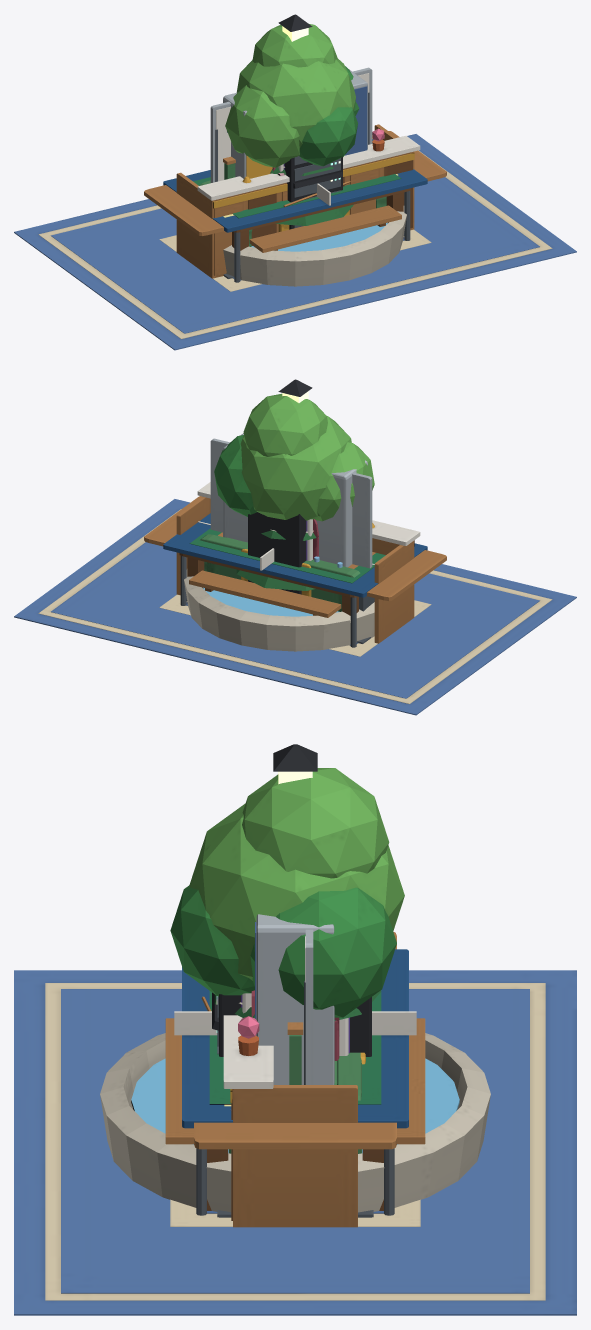
The model's file is mobilia.glb.
3 renders of one model, top to bottom at view 1: azimuth 30°, elevation 25°; view 2: azimuth 150°, elevation 25°; view 3: azimuth 270°, elevation 25°, orthographic. The views are drawn at different scales.
Visible parts, largest first — view 1: tapete_grande, arvore, balcao, fonte, mesa_pingpong, mesa_picnic, mesa_reuniao, sinuca, lousa, armario, rack_servidor, tapete (+2 smaller); view 2: tapete_grande, arvore, fonte, balcao, mesa_pingpong, armario, lousa, mesa_reuniao, mesa_picnic, rack_servidor, sinuca, sofa (+3 smaller); view 3: tapete_grande, arvore, fonte, balcao, mesa_pingpong, armario, mesa_reuniao, mesa_picnic, sinuca, tapete, rack_servidor, lousa (+3 smaller).
Boxes of the visible parts, <box> form: tapete_grande: <box>14,134,576,350</box>; arvore: <box>225,24,359,167</box>; balcao: <box>176,124,420,278</box>; fonte: <box>223,166,406,286</box>; mesa_pingpong: <box>163,139,427,282</box>; mesa_picnic: <box>249,205,401,252</box>; mesa_reuniao: <box>144,131,446,278</box>; sinuca: <box>193,174,411,250</box>; lousa: <box>210,67,372,182</box>; armario: <box>223,70,367,178</box>; rack_servidor: <box>284,156,342,229</box>; tapete: <box>159,229,431,291</box>; tapete_grande: <box>14,499,576,715</box>; arvore: <box>214,393,374,521</box>; fonte: <box>184,529,374,651</box>; balcao: <box>176,482,420,643</box>; mesa_pingpong: <box>163,513,427,647</box>; armario: <box>223,433,367,567</box>; lousa: <box>210,438,372,568</box>; mesa_reuniao: <box>144,496,446,643</box>; mesa_picnic: <box>189,532,375,617</box>; rack_servidor: <box>248,512,306,594</box>; sinuca: <box>179,528,385,615</box>; sofa: <box>200,534,360,611</box>; tapete_grande: <box>14,970,576,1315</box>; arvore: <box>170,768,404,1017</box>; fonte: <box>100,1002,490,1212</box>; balcao: <box>223,1015,357,1227</box>; mesa_pingpong: <box>174,949,416,1215</box>; armario: <box>255,914,334,1084</box>; mesa_reuniao: <box>194,932,396,1217</box>; mesa_picnic: <box>165,1018,425,1144</box>; sinuca: <box>201,990,383,1210</box>; tapete: <box>170,1199,420,1226</box>; rack_servidor: <box>216,994,371,1056</box>; lousa: <box>304,929,313,1084</box>.
Bounding box in the file's own units: 5.2 × 2.84 × 3.6.
Materials: 185 (180 with a texture image).
